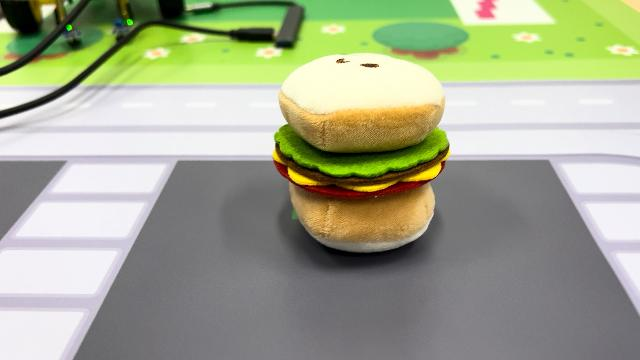sandwich: (270, 49, 452, 255)
